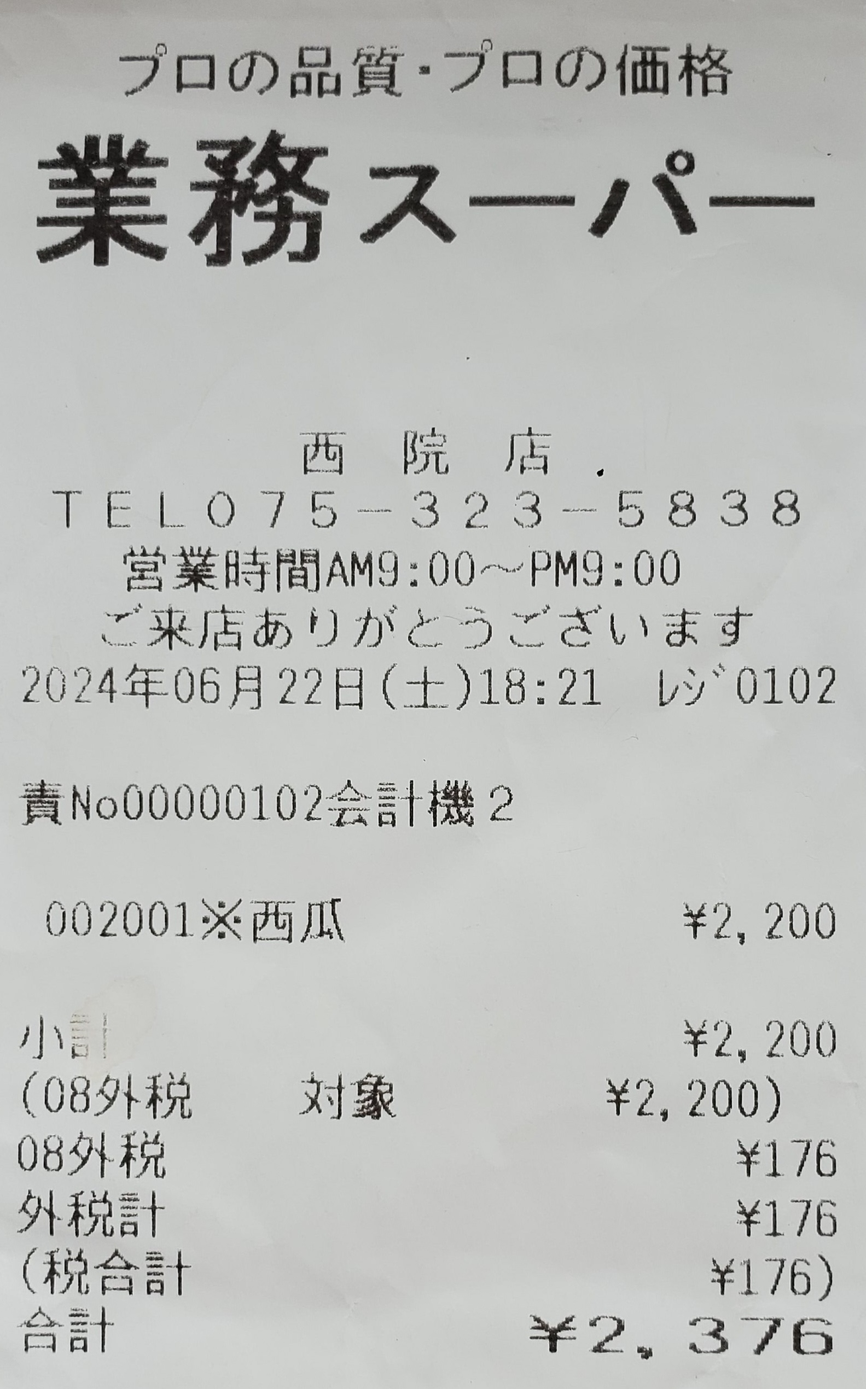Date: (13, 651, 381, 728)
Shopname: (13, 110, 862, 325)
Telnum: (195, 483, 823, 538)
Totalpay: (7, 1299, 866, 1384)
